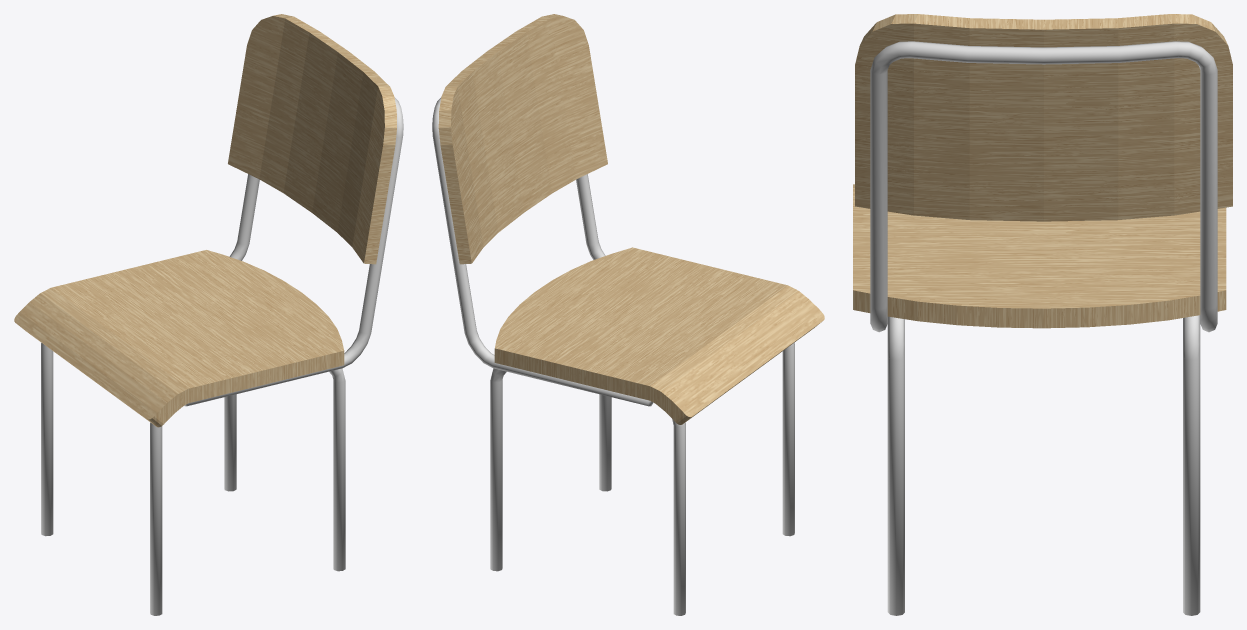
Rendered from Silla01.fbx.
3 views of the same model, side by side, from view 1: azimuth 30°, elevation 25°; view 2: azimuth 150°, elevation 25°; view 3: azimuth 270°, elevation 25° (orthographic). The views are drawn at different scales.
Parts seen in each view (by area): view 1: Silla01; view 2: Silla01; view 3: Silla01.
Boxes of the visible parts, x1,y1,x2,y2 form: Silla01: [14, 14, 403, 615]; Silla01: [432, 14, 824, 615]; Silla01: [853, 14, 1232, 615].
Size of the model in its own units: 50 by 80 by 43.76.
